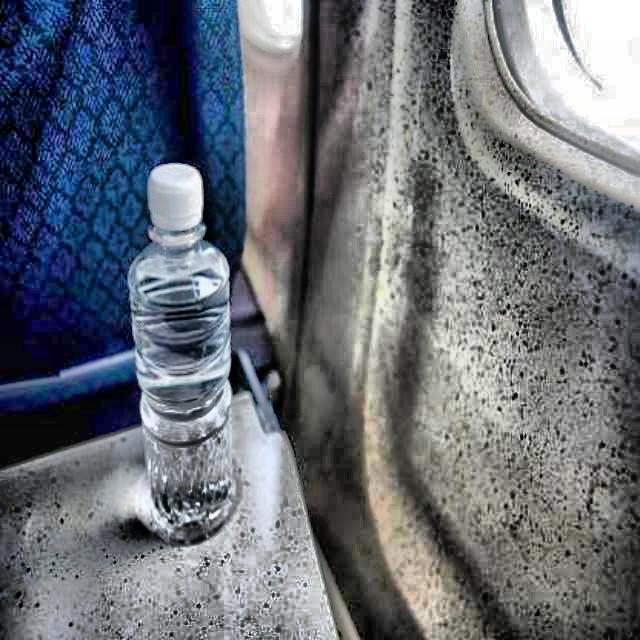Bottles: (100, 155, 263, 548)
